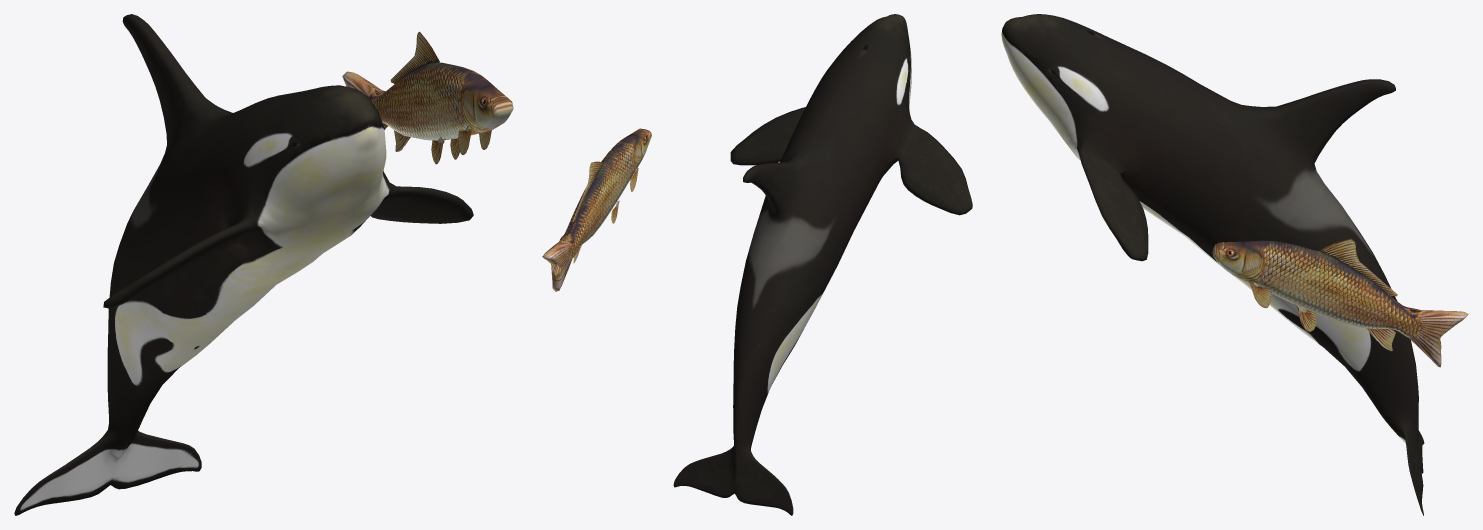
File: kiillerwhale.obj
The picture shows the model from 3 angles, left to right: view 1: azimuth 30°, elevation 25°; view 2: azimuth 150°, elevation 25°; view 3: azimuth 270°, elevation 25°; orthographic projection. The views are drawn at different scales.
Parts seen in each view (by area): view 1: kiillerwhale, fish_Cube; view 2: kiillerwhale, fish_Cube; view 3: kiillerwhale, fish_Cube.
Part boxes in pixels (<box>): kiillerwhale: <box>14,14,473,515</box>; fish_Cube: <box>342,31,513,164</box>; kiillerwhale: <box>673,14,972,515</box>; fish_Cube: <box>542,128,651,291</box>; kiillerwhale: <box>1001,14,1424,515</box>; fish_Cube: <box>1212,239,1468,367</box>.
Size of the model in its own units: 4.35 by 5.13 by 4.69.
Materials: 2 (2 with a texture image).
